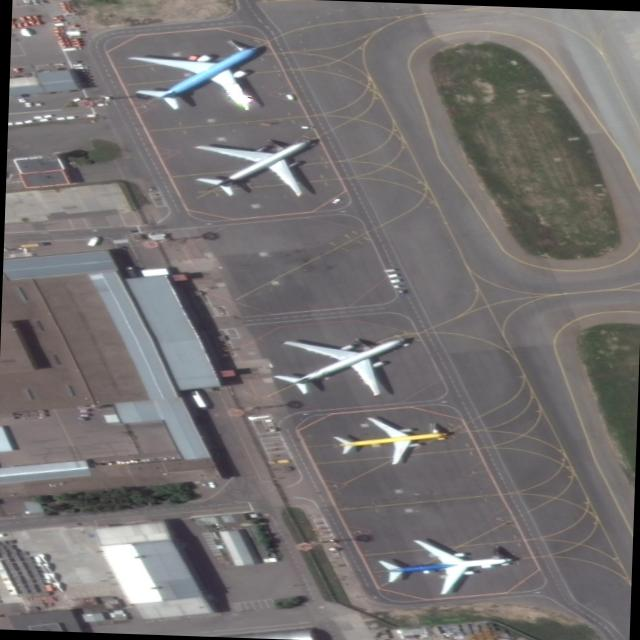plane: (75, 33, 335, 119), (208, 320, 463, 406), (138, 125, 377, 205), (344, 534, 543, 598), (304, 412, 485, 468)
small-vehicle: (85, 236, 100, 246), (59, 47, 83, 51), (49, 22, 68, 26), (71, 66, 88, 69), (70, 63, 86, 66)
